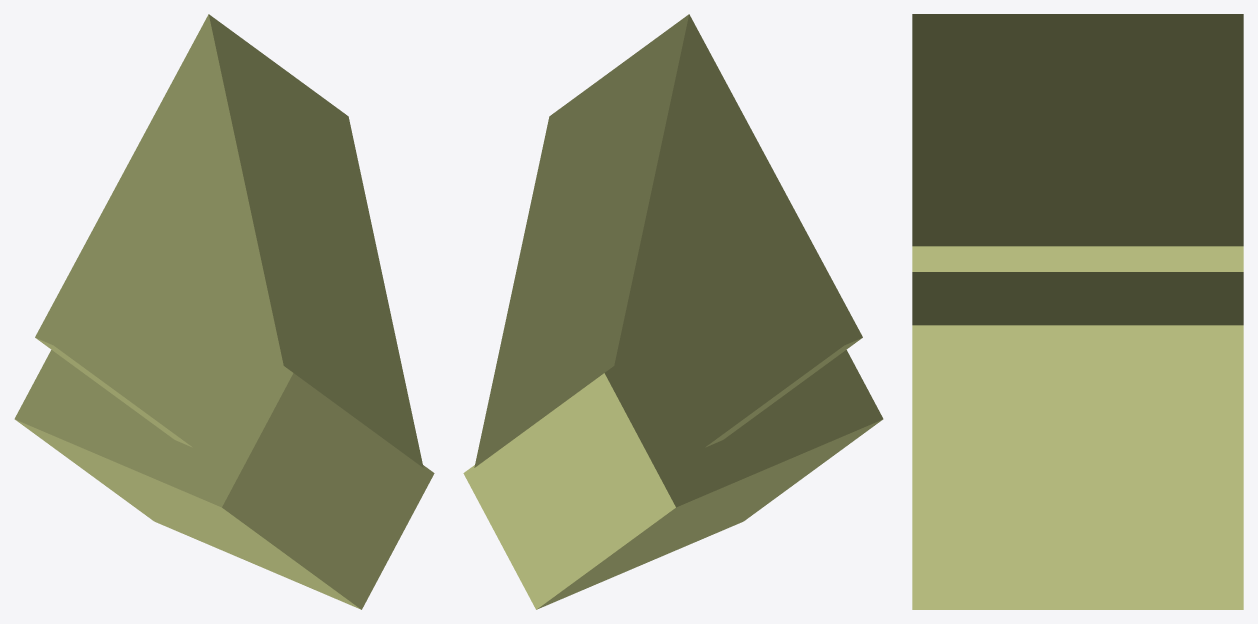
3 views of the same model, side by side, from view 1: azimuth 30°, elevation 25°; view 2: azimuth 150°, elevation 25°; view 3: azimuth 270°, elevation 25° (orthographic). The views are drawn at different scales.
Parts seen in each view (by area): view 1: 0_1_0_0_0_1_0_2_3; view 2: 0_1_0_0_0_1_0_2_3; view 3: 0_1_0_0_0_1_0_2_3.
Boxes of the visible parts, x1=… form: 0_1_0_0_0_1_0_2_3: x1=14, y1=14, x2=434, y2=609; 0_1_0_0_0_1_0_2_3: x1=463, y1=14, x2=883, y2=609; 0_1_0_0_0_1_0_2_3: x1=912, y1=14, x2=1243, y2=609.
Size of the model in its own units: 6.94 by 11.75 by 6.
